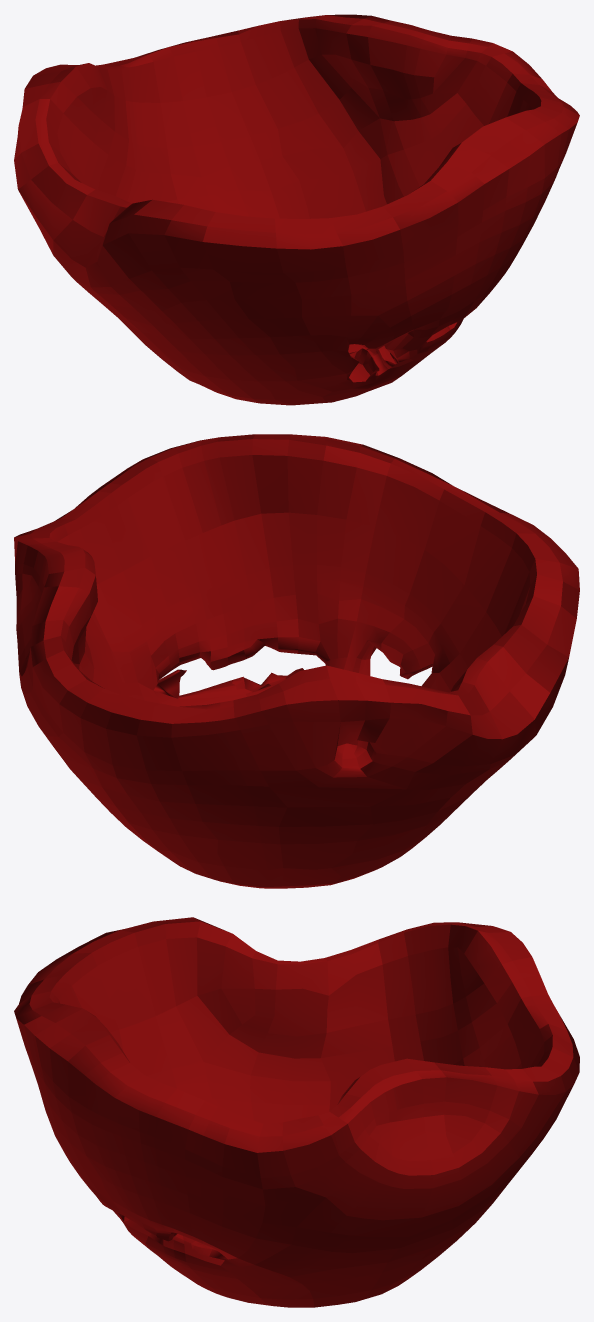
The model's file is applebowl.obj.
3 views of the same model, one above another, from view 1: azimuth 30°, elevation 25°; view 2: azimuth 150°, elevation 25°; view 3: azimuth 270°, elevation 25° (orthographic). The views are drawn at different scales.
Visible parts, largest first — view 1: apple:subd; view 2: apple:subd; view 3: apple:subd.
Part boxes in pixels (x1,y1,x2,y2): apple:subd: (14,14,579,405); apple:subd: (14,434,579,888); apple:subd: (14,917,579,1307).
Size of the model in its own units: 43.67 by 24.89 by 44.3.
